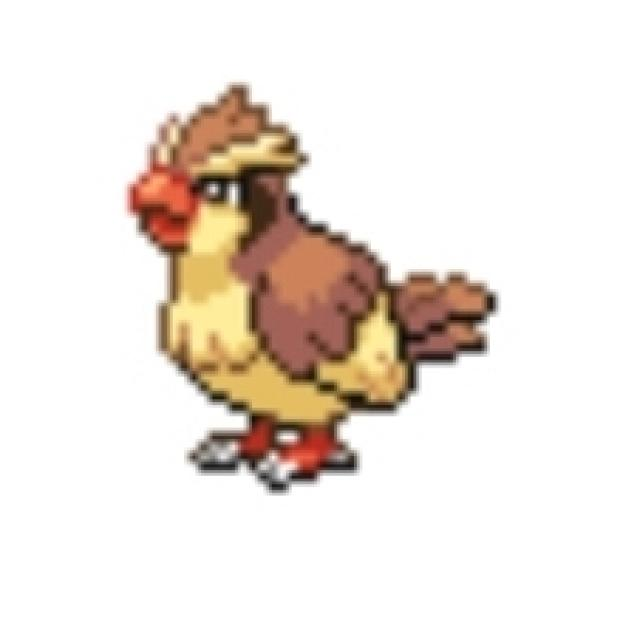Pidgey: (110, 91, 445, 472)
